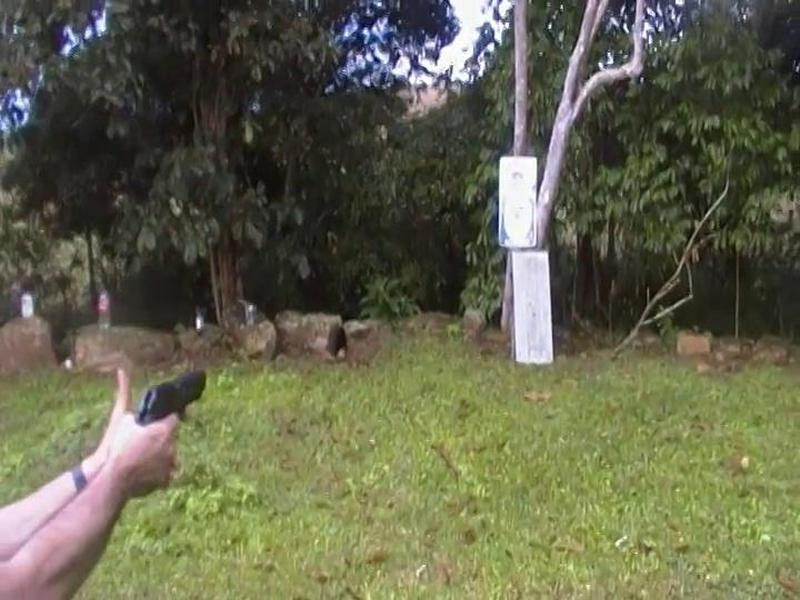Pistola: (122, 353, 228, 467)
